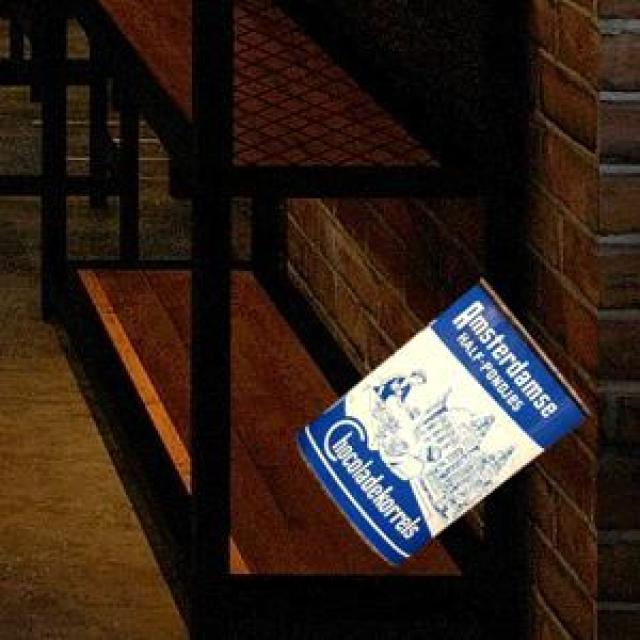Can: (291, 276, 588, 564)
